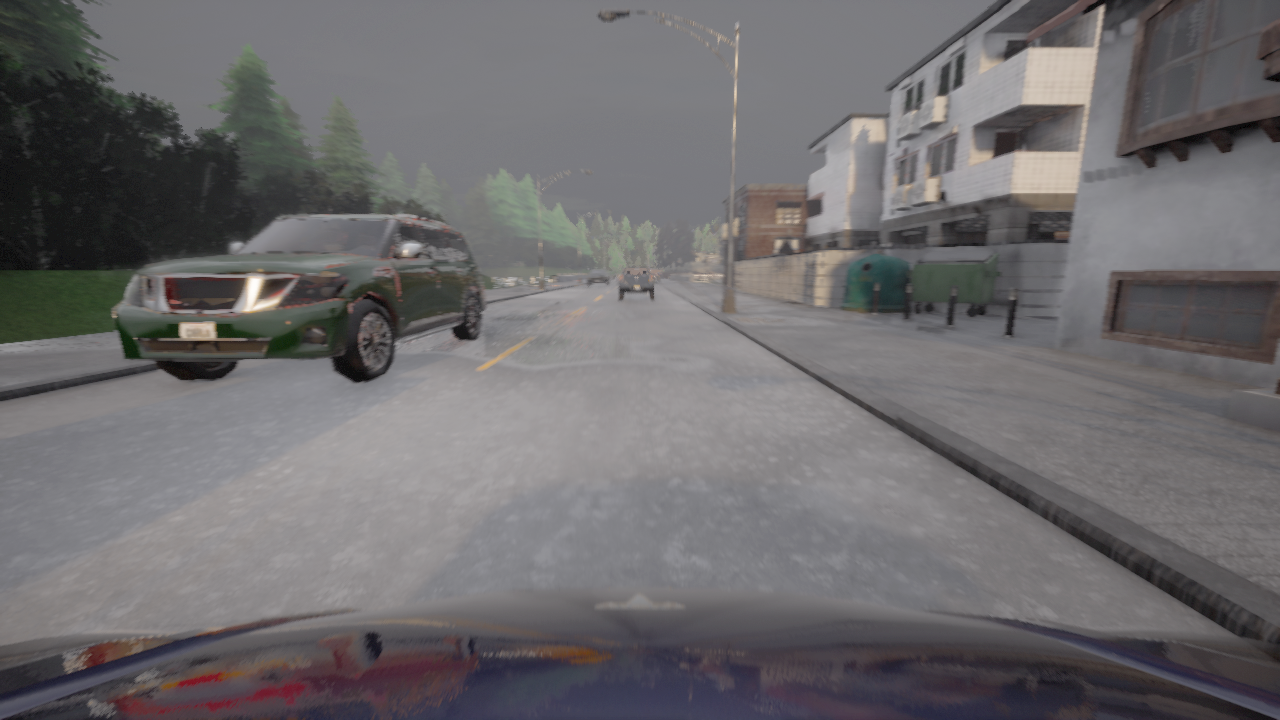cyclist: (0, 588, 1279, 719), (113, 214, 485, 382), (618, 266, 655, 300), (587, 269, 610, 285), (653, 272, 660, 276)
